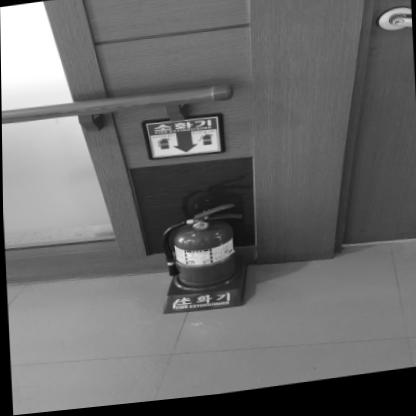FE: (161, 207, 246, 320)
